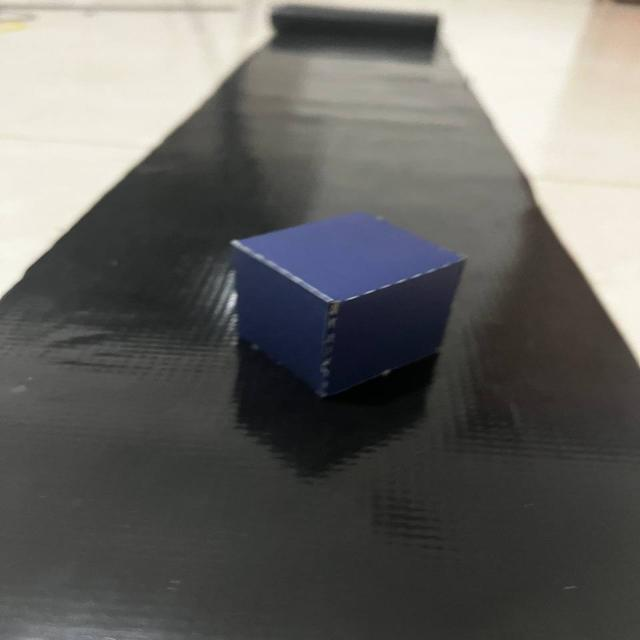Azul: (192, 196, 498, 417)
